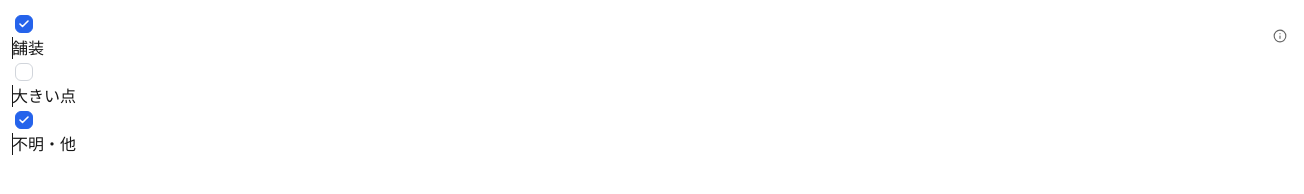
Test case: LegendCheckboxList（凡例のチェック一覧） › 説明のある行にだけ（i）を出し、押すと行の下に説明が開き、絞り込みは切り替えない
Expected: the text "アスファルトの道" is not shown
Click the button named "舗装の説明を表示" at (1280, 36), box left=1268, top=24, right=1292, bottom=48
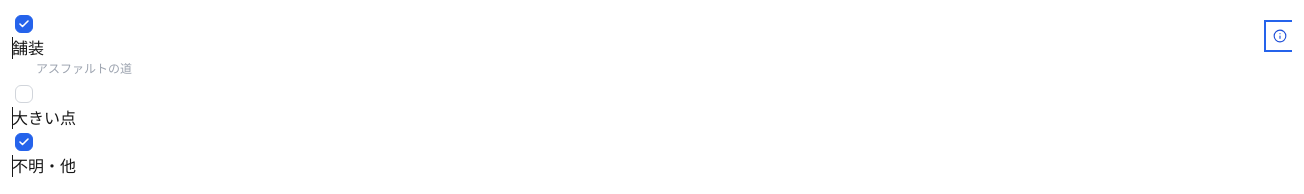
Expected: the text "アスファルトの道" is shown, left=36, top=61, right=132, bottom=76
Expected: the button named "舗装の説明を隠す" is expanded
Click the button named "舗装の説明を隠す" at (1280, 36), box left=1268, top=24, right=1292, bottom=48
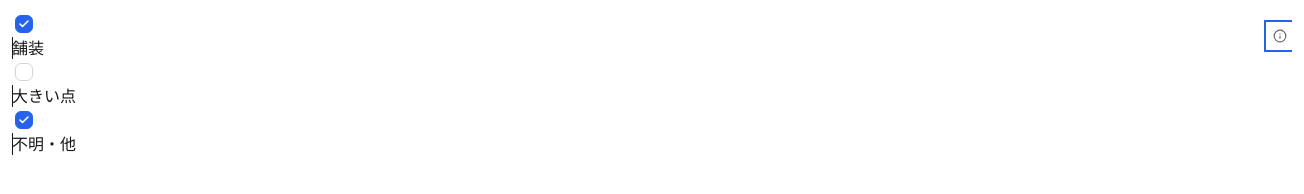
Expected: the text "アスファルトの道" is gone
